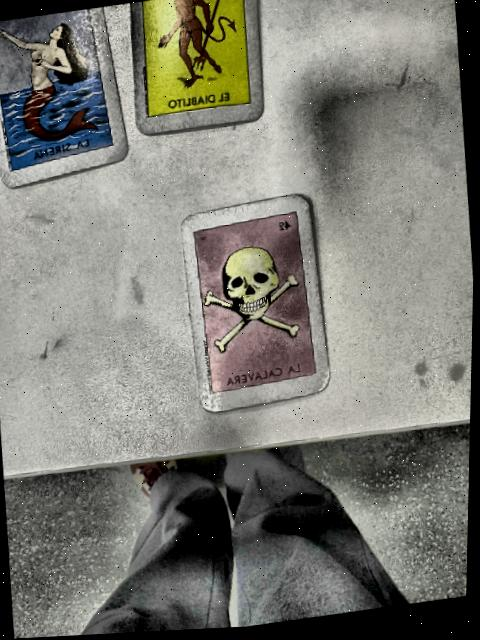La Calavera: (191, 213, 316, 395)
